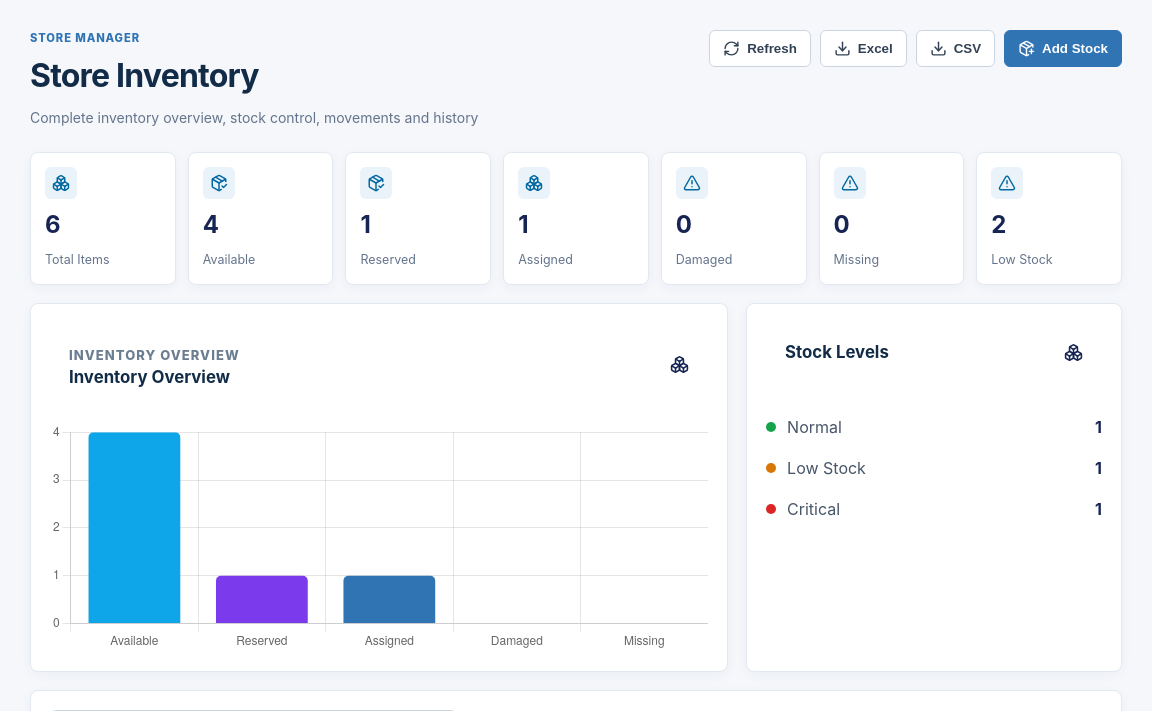
Test: invalid Add Stock quantities are rejected before posting
Step 1. Click the button "Add Stock" → [1063, 48], box [1004,30,1122,67]
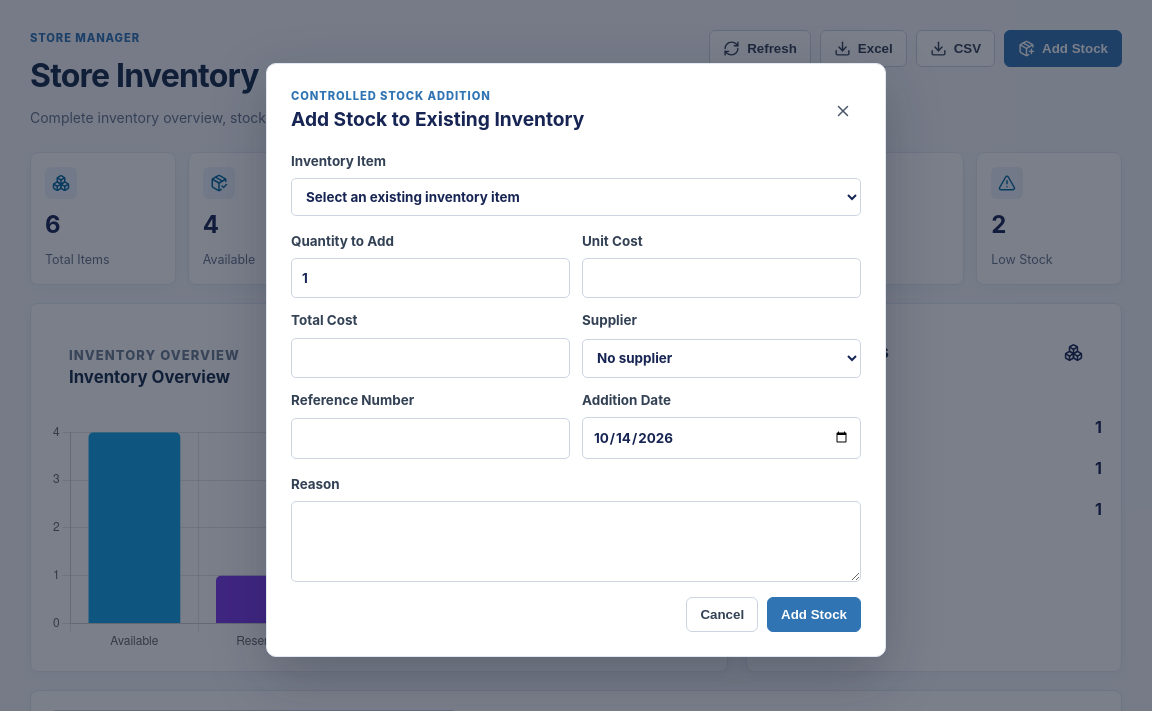
Step 2. Select "ASSET-17 - Projector" in the dropdown labelled "Inventory Item" → [576, 197], box [291,178,861,216]
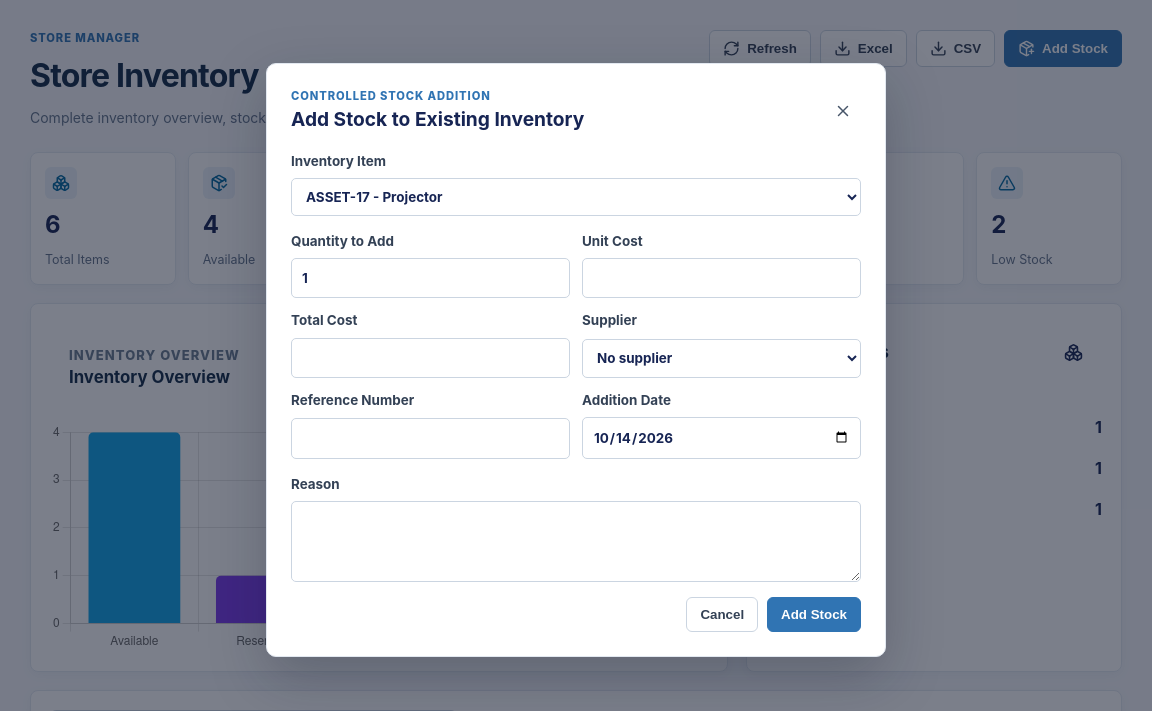
Step 3. Replace the text in the number field labelled "Quantity to Add" with "0" → [430, 278], box [291,258,570,298]
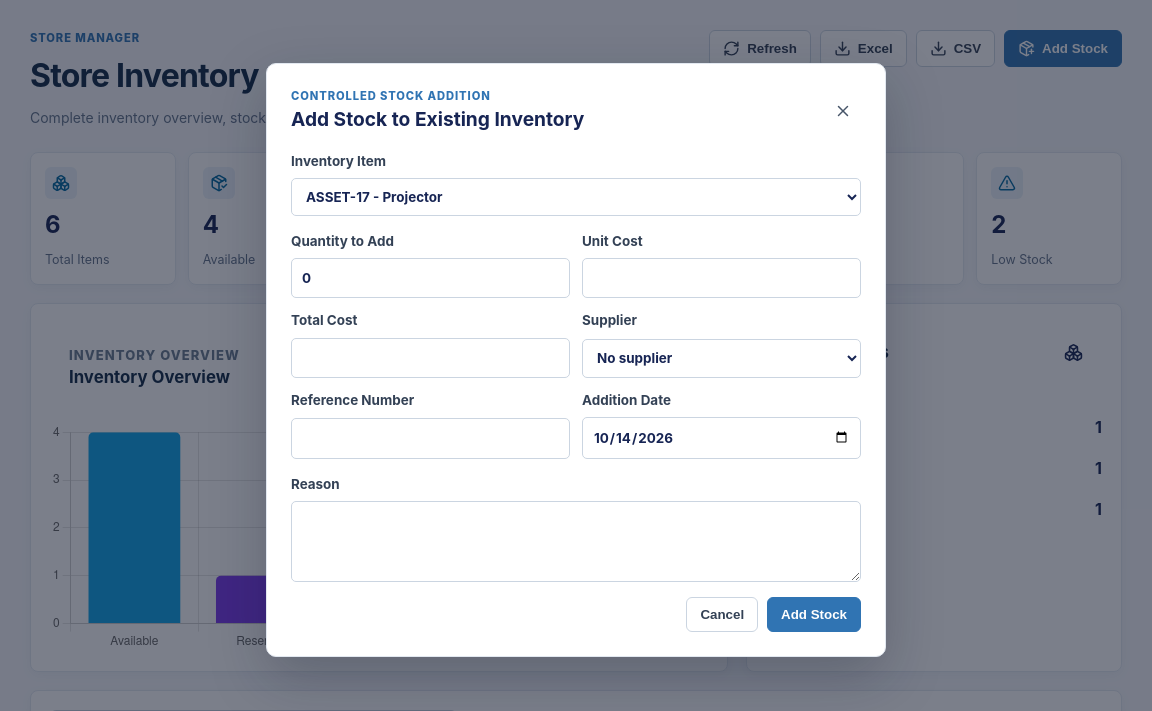
Step 4. Type "STOCK-REF-5" into the field labelled "Reference Number" → [430, 438], box [291,418,570,459]
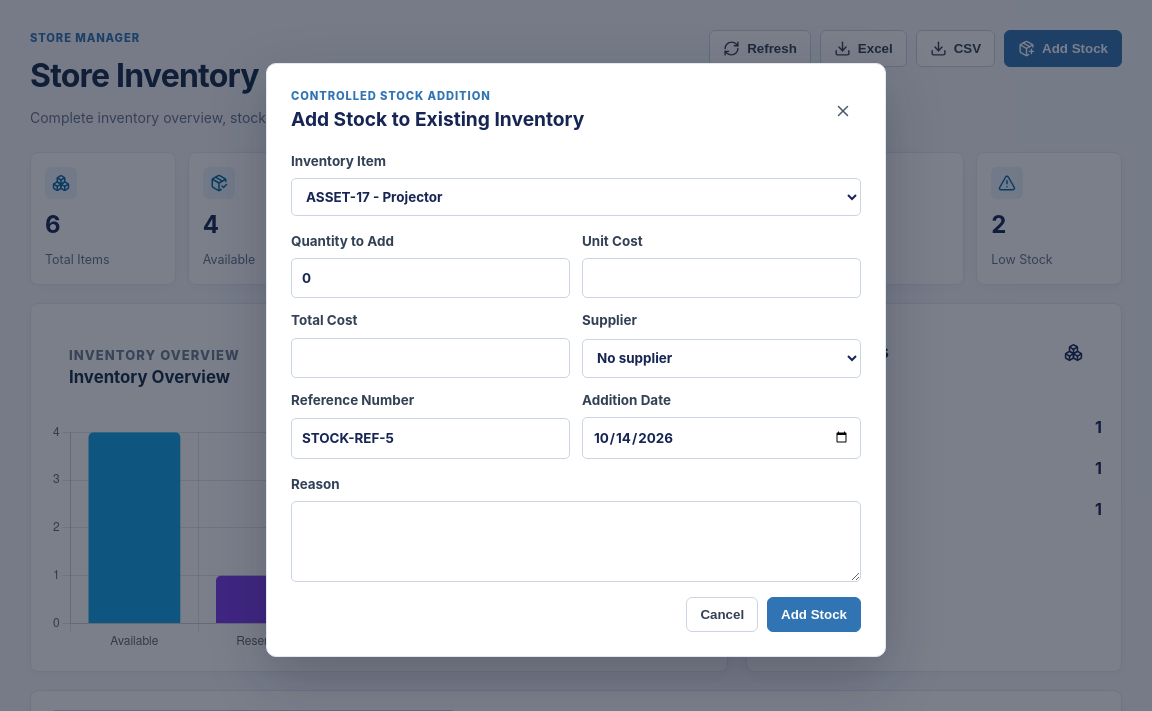
Step 5. Type "Verified opening stock" into the text box labelled "Reason" → [576, 541], box [291,501,861,582]
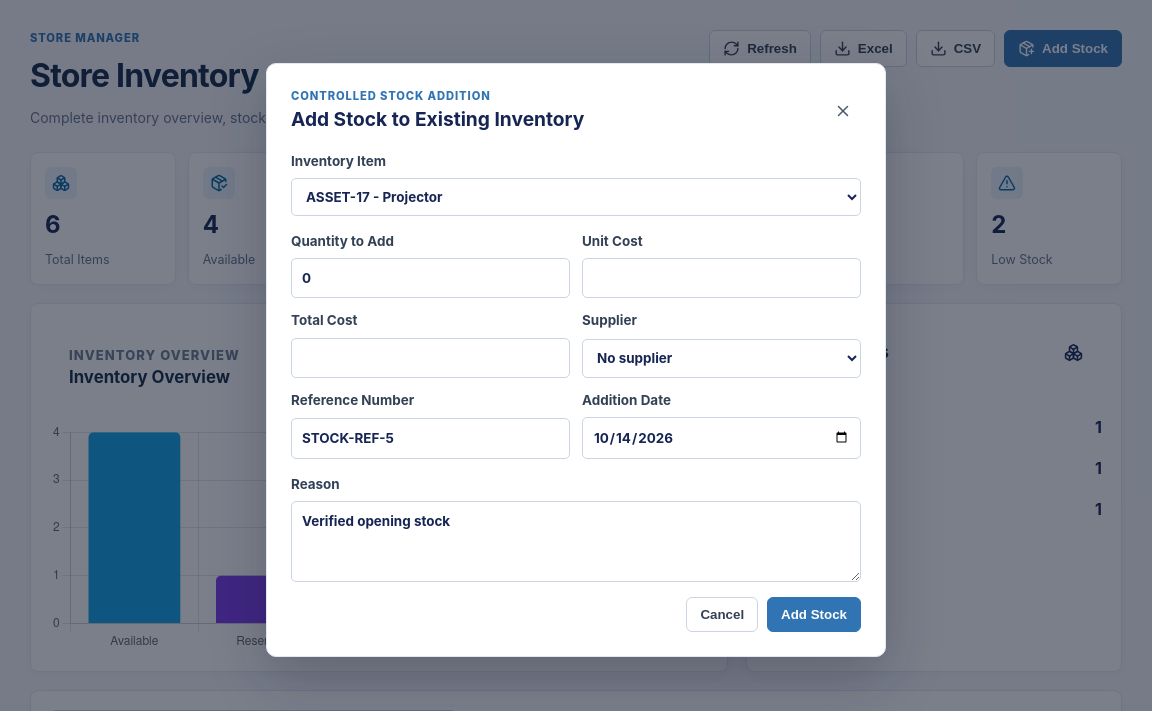
Step 6. Submit the form, box [291,151,861,632]
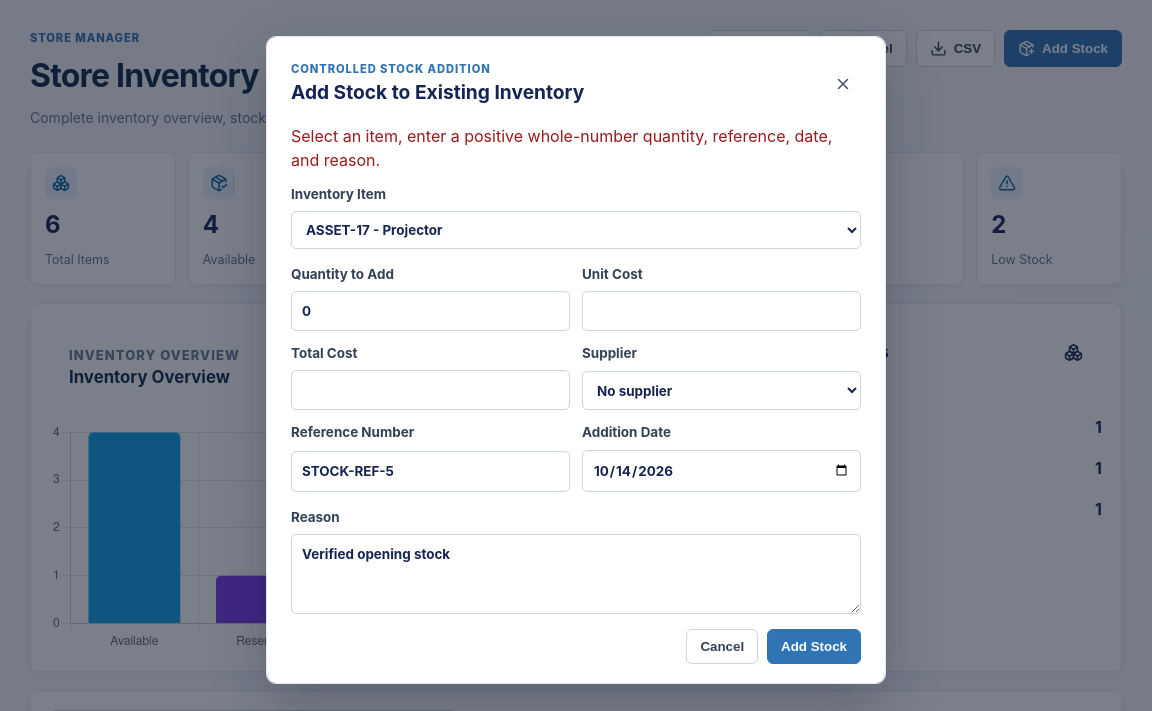
Expected: the message shows "Select an item, enter a positive whole-number quantity, reference, date, and reason.", [291,126,832,170]
